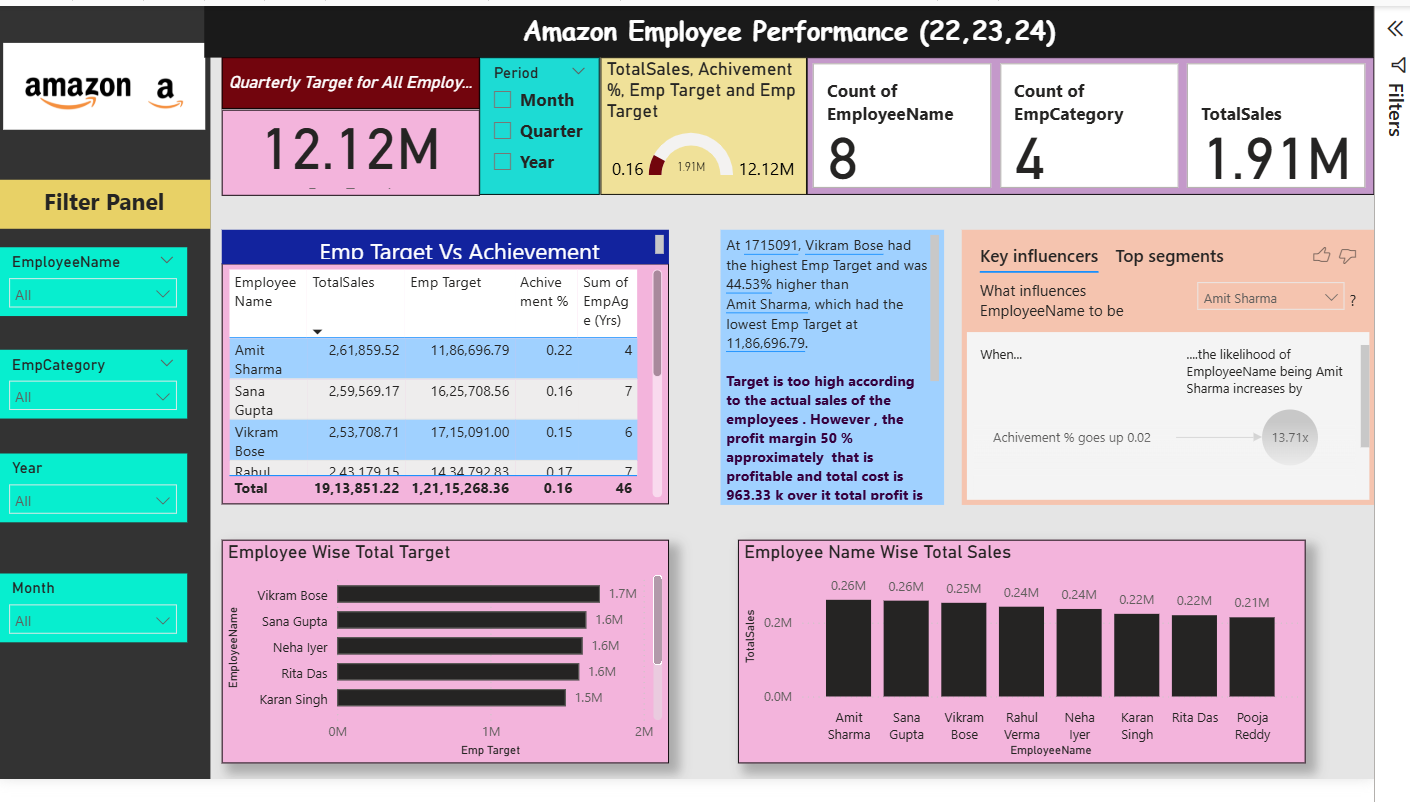

The page's visual inventory and layout, read from the dashboard file:
{"tool":"powerbi","page":{"name":"Target/Achivement","canvas":[1280,720],"ordinal":1},"visuals":[{"type":"textbox","box":[0,0,197.7,719.8],"z":0},{"type":"image","box":[0,15.1,197.7,118.6],"z":1000},{"type":"textbox","box":[0,161.6,197.7,45.3],"z":2000},{"type":"textbox","box":[192,0,1088,48],"z":3000},{"type":"slicer","fields":{"Values":["TimeToggle.Period"]},"box":[448,48,112,128],"z":4000},{"type":"card","fields":{"Values":["EmployeeTargets_Quarterly.Dynamic Target Title"]},"box":[208,48,240,48],"z":5000},{"type":"card","fields":{"Values":["EmployeeTargets_Quarterly.Emp Target"]},"box":[208,96,240,80],"z":6000},{"type":"cardVisual","fields":{"Data":["Count(EmployeeMaster.EmployeeName)","Count(EmployeeMaster.EmpCategory)","SalesRaw.TotalSales"]},"box":[752,48,528,128],"z":7000},{"type":"slicer","fields":{"Values":["EmployeeMaster.EmployeeName"]},"box":[0,224,176,64],"z":8000},{"type":"tableEx","fields":{"Values":["EmployeeMaster.EmployeeName","SalesRaw.TotalSales","EmployeeTargets_Quarterly.Emp Target","EmployeeTargets_Quarterly.Achivement","Sum(EmployeeMaster.EmpAge (Yrs))"]},"box":[208,240,416,224],"z":9000},{"type":"gauge","fields":{"Y":["SalesRaw.TotalSales"],"MaxValue":["EmployeeTargets_Quarterly.Emp Target"],"MinValue":["EmployeeTargets_Quarterly.Achivement %"]},"box":[560,48,192,128],"z":10000},{"type":"slicer","fields":{"Values":["EmployeeMaster.EmpCategory"]},"box":[0,320,176,64],"z":11000},{"type":"textbox","box":[208,208,416,32],"z":12000},{"type":"barChart","title":"Employee Wise Total Target","fields":{"Category":["EmployeeMaster.EmployeeName"],"Y":["EmployeeTargets_Quarterly.Emp Target"]},"box":[208,496,416,208],"z":13000},{"type":"columnChart","title":"Employee Name Wise Total Sales ","fields":{"Category":["EmployeeMaster.EmployeeName"],"Y":["SalesRaw.TotalSales"]},"box":[688,496,528,208],"z":14000},{"type":"slicer","fields":{"Values":["Date.Year"]},"box":[0,416,176,64],"z":15000},{"type":"slicer","fields":{"Values":["Date.Month"]},"box":[0,528,176,64],"z":16000},{"type":"textbox","box":[672,208,208,256],"z":17000},{"type":"keyDriversVisual","fields":{"Target":["EmployeeMaster.EmployeeName"],"ExplainBy":["EmployeeTargets_Quarterly.Achivement %","EmployeeTargets_Quarterly.Emp Target","EmployeeTargets_Quarterly.Yearly Target"]},"box":[896,208,384,256],"z":18000}]}

Visuals, with their boxes on the page's 1280x720 design canvas (x1, y1, x2, y2). These are canvas units, not pixel positions in the 1410x802 screenshot, which may show the page scaled, cropped or inside an application window:
textbox: bbox=[0, 0, 198, 720]
image: bbox=[0, 15, 198, 134]
textbox: bbox=[0, 162, 198, 207]
textbox: bbox=[192, 0, 1280, 48]
slicer - TimeToggle.Period: bbox=[448, 48, 560, 176]
card - EmployeeTargets_Quarterly.Dynamic Target Title: bbox=[208, 48, 448, 96]
card - EmployeeTargets_Quarterly.Emp Target: bbox=[208, 96, 448, 176]
cardVisual - Count(EmployeeMaster.EmployeeName) x Count(EmployeeMaster.EmpCategory): bbox=[752, 48, 1280, 176]
slicer - EmployeeMaster.EmployeeName: bbox=[0, 224, 176, 288]
tableEx - EmployeeMaster.EmployeeName x SalesRaw.TotalSales: bbox=[208, 240, 624, 464]
gauge - SalesRaw.TotalSales x EmployeeTargets_Quarterly.Emp Target: bbox=[560, 48, 752, 176]
slicer - EmployeeMaster.EmpCategory: bbox=[0, 320, 176, 384]
textbox: bbox=[208, 208, 624, 240]
"Employee Wise Total Target" barChart: bbox=[208, 496, 624, 704]
"Employee Name Wise Total Sales " columnChart: bbox=[688, 496, 1216, 704]
slicer - Date.Year: bbox=[0, 416, 176, 480]
slicer - Date.Month: bbox=[0, 528, 176, 592]
textbox: bbox=[672, 208, 880, 464]
keyDriversVisual - EmployeeMaster.EmployeeName x EmployeeTargets_Quarterly.Achivement %: bbox=[896, 208, 1280, 464]
